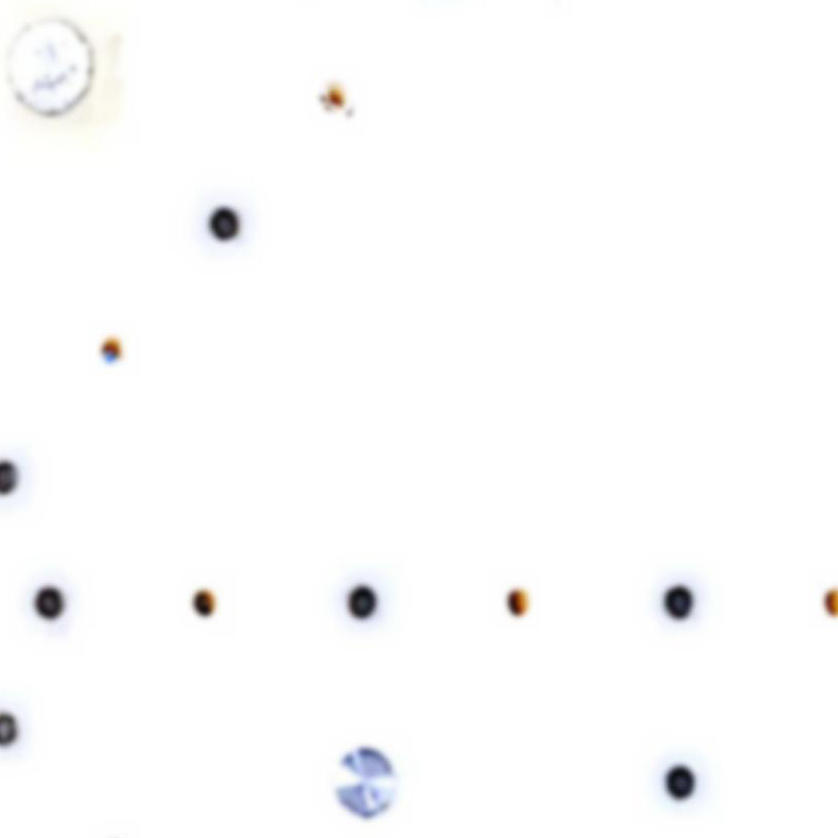abnormal: (1, 5, 121, 119), (308, 719, 419, 834)
cancer: (318, 540, 410, 640), (635, 738, 724, 830), (642, 559, 730, 645), (189, 188, 276, 264), (19, 567, 103, 645)
normal: (295, 69, 383, 145), (81, 324, 153, 392), (476, 561, 545, 629), (169, 573, 248, 626)
